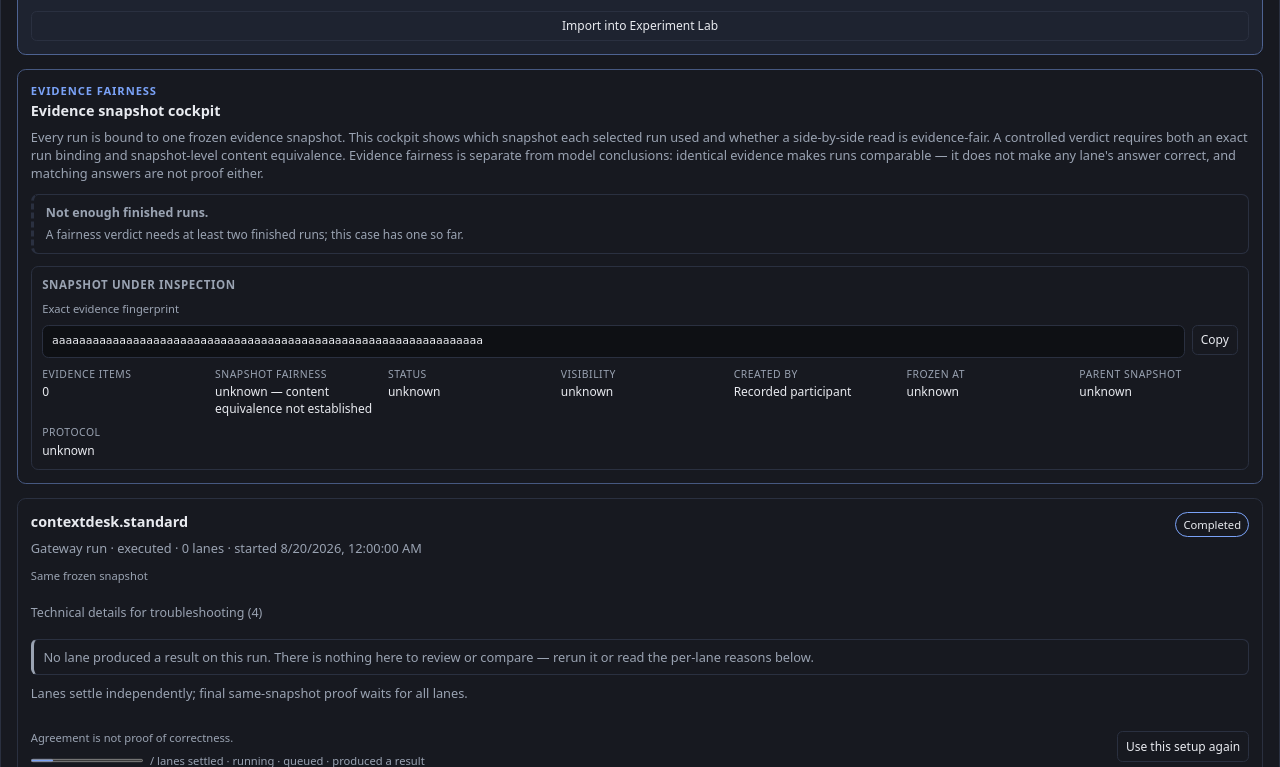
it: TriageRunPanel › restores gateway lane concurrency when reusing a run setup
The image size is (1280, 767).
(page scrolled)
Click the button "Use this setup again": (1183, 746) [1117,731,1249,762]
(page scrolled)
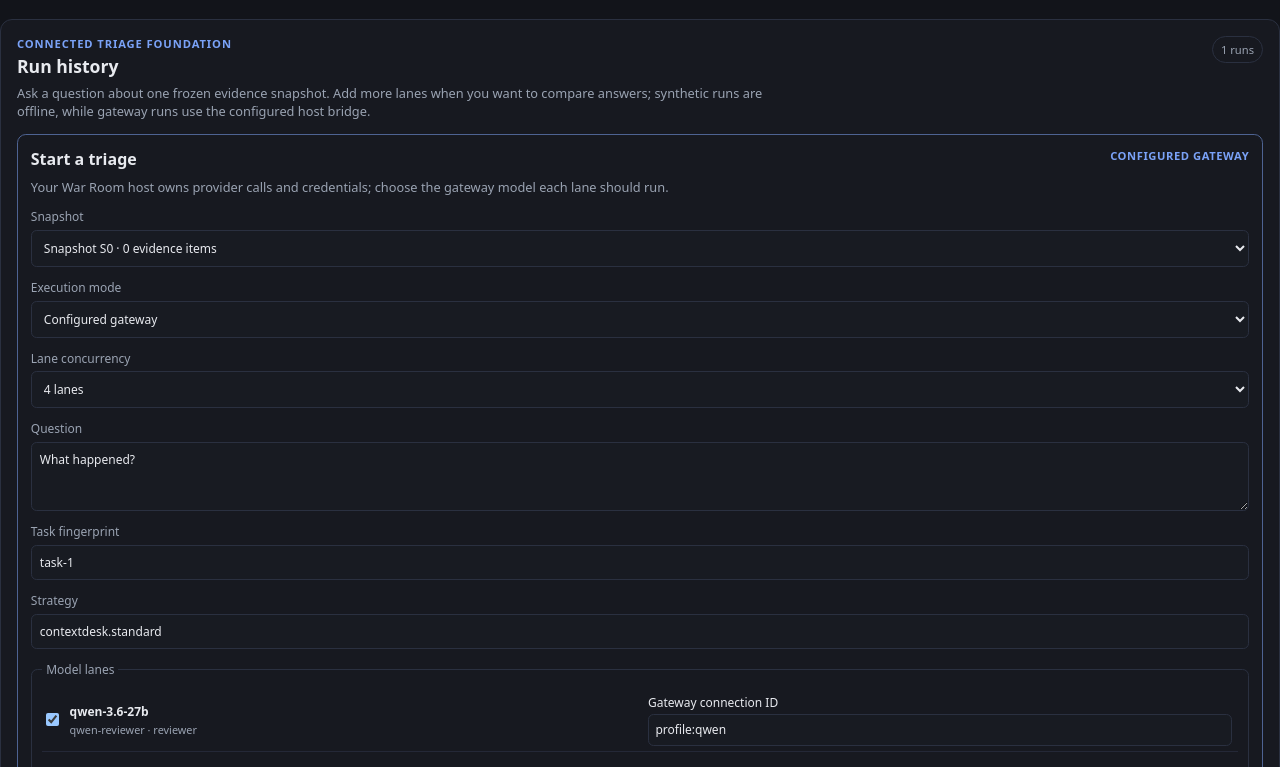
Now the dropdown labelled "Lane concurrency" shows "4 lanes", box [31,371,1249,408]
